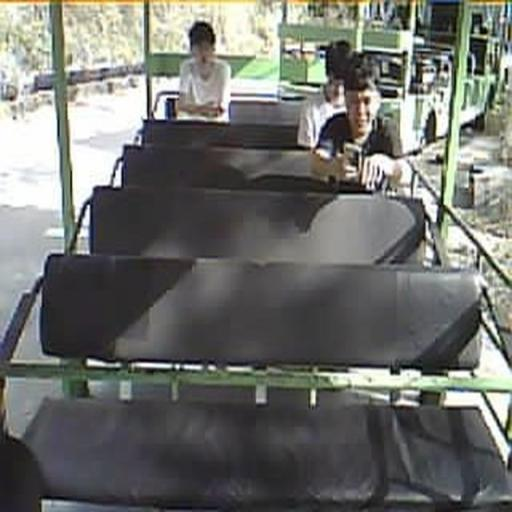persona: (310, 58, 405, 191), (296, 41, 355, 150), (176, 20, 232, 122)
